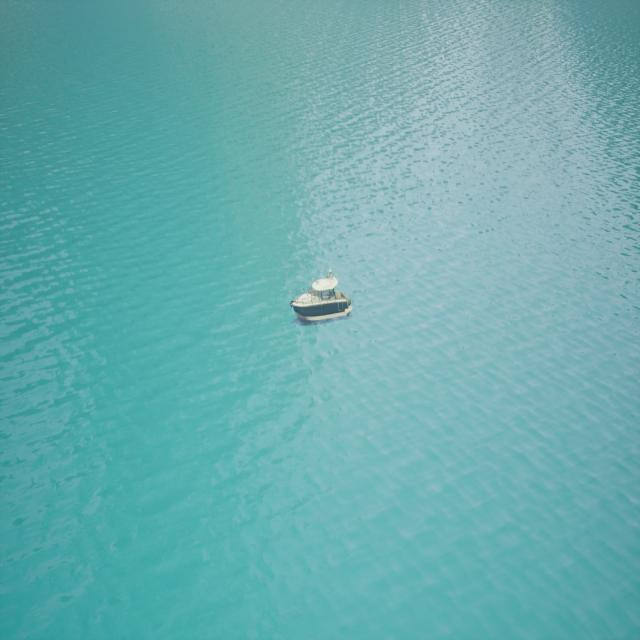ship: (288, 269, 352, 323)
